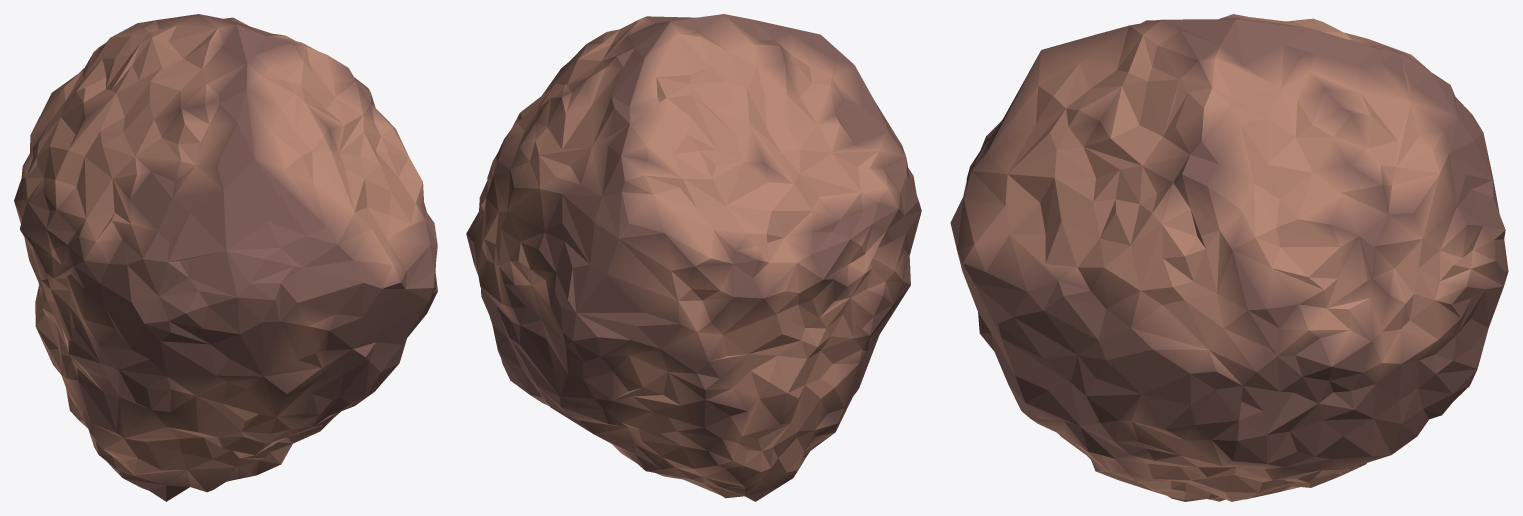
Rendered from Meteorite2(broken).fbx.
3 views of the same model, side by side, from view 1: azimuth 30°, elevation 25°; view 2: azimuth 150°, elevation 25°; view 3: azimuth 270°, elevation 25° (orthographic). The views are drawn at different scales.
Visible parts, largest first — view 1: Meteorite9, Meteorite5, Meteorite6, Meteorite10, Meteorite7, Meteorite8, Meteorite4; view 2: Meteorite4, Meteorite9, Meteorite10, Meteorite8, Meteorite3, Meteorite5; view 3: Meteorite6, Meteorite8, Meteorite3, Meteorite4, Meteorite9, Meteorite7.
Boxes of the visible parts, bbox=[...] form: Meteorite9: bbox=[14, 14, 304, 288]; Meteorite5: bbox=[41, 248, 330, 458]; Meteorite6: bbox=[227, 98, 437, 426]; Meteorite10: bbox=[29, 261, 186, 501]; Meteorite7: bbox=[166, 393, 372, 501]; Meteorite8: bbox=[111, 14, 375, 114]; Meteorite4: bbox=[14, 25, 135, 259]; Meteorite4: bbox=[507, 117, 797, 408]; Meteorite9: bbox=[628, 14, 906, 333]; Meteorite10: bbox=[530, 314, 879, 501]; Meteorite8: bbox=[480, 16, 690, 211]; Meteorite3: bbox=[466, 196, 567, 414]; Meteorite5: bbox=[819, 158, 921, 350]; Meteorite6: bbox=[950, 50, 1256, 460]; Meteorite8: bbox=[1122, 29, 1439, 371]; Meteorite3: bbox=[1181, 239, 1488, 480]; Meteorite4: bbox=[1376, 42, 1508, 327]; Meteorite9: bbox=[1042, 14, 1342, 88]; Meteorite7: bbox=[1030, 418, 1364, 501].
Size of the model in its own units: 1658 by 1992 by 1924.
